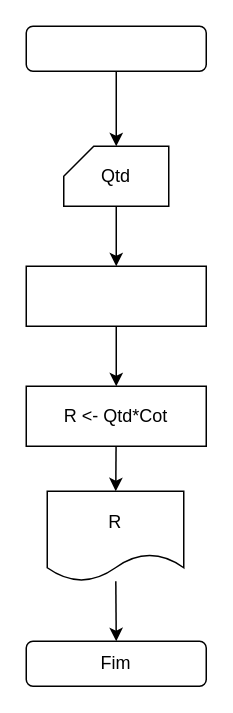
The diagram is 233 pixels wide and 713 high, and some of its shapes have lost their labels. Here are the shapes that lost their labels. From the top down, the centre of each, then its label:
point 115,48: Inicio
point 115,295: Cot <- 5.25
